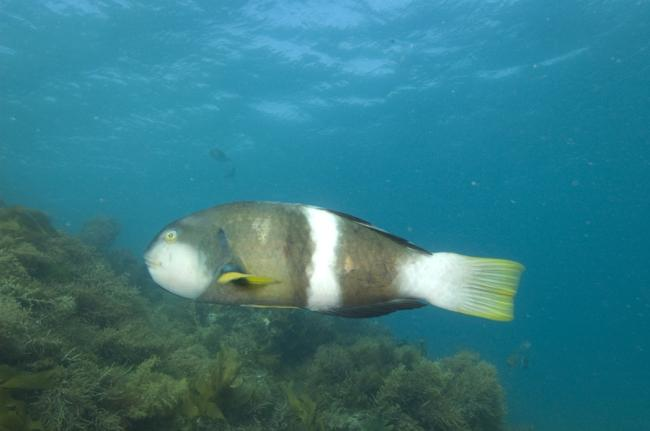fish: (143, 200, 525, 324)
